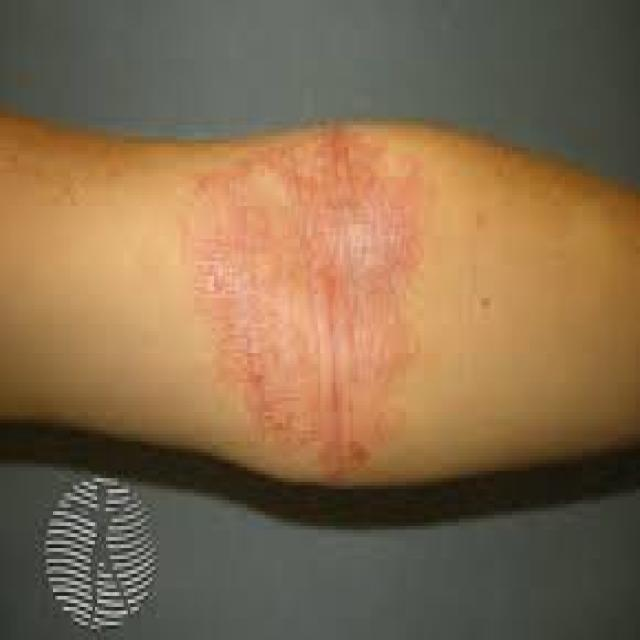Eczema: (178, 126, 432, 478)
